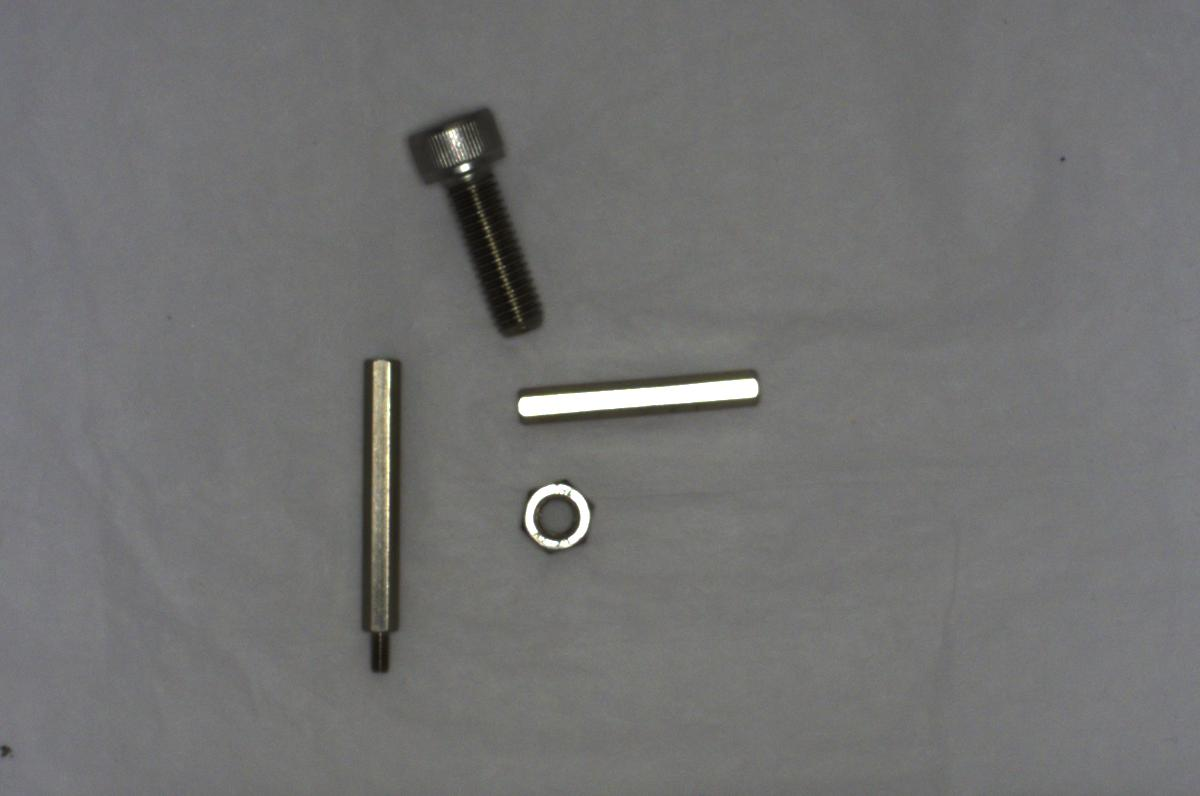Double hexagonal column: (504, 370, 768, 423)
Hexagon nut: (511, 474, 597, 559)
Hexagon screw: (401, 93, 554, 345)
Hexagonal steel column: (351, 352, 402, 672)
